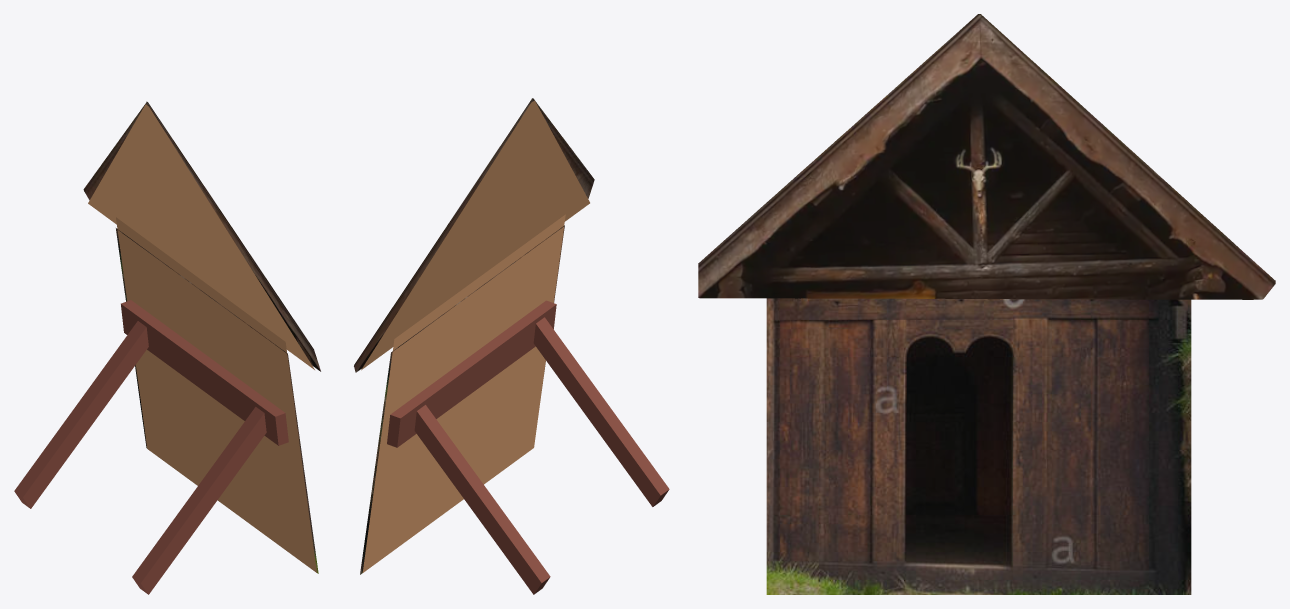
Rendered from house_01.fbx.
The picture shows the model from 3 angles, left to right: view 1: azimuth 30°, elevation 25°; view 2: azimuth 150°, elevation 25°; view 3: azimuth 270°, elevation 25°; orthographic projection. The views are drawn at different scales.
Visible parts, largest first — view 1: Plane.001, Plane.002, Cube.002, Cube, Cube.001, roof, building; view 2: Plane.001, Plane.002, Cube.002, Cube, Cube.001, roof, building; view 3: building, roof.
Boxes of the visible parts, x1,y1,x2,y2 form: Plane.001: (116,217,316,572); Plane.002: (88,104,314,369); Cube.002: (121,300,288,445); Cube: (14,321,148,508); Cube.001: (132,407,266,594); roof: (83,101,320,371); building: (116,228,318,573); Plane.001: (362,214,565,572); Plane.002: (361,100,589,370); Cube.002: (387,300,556,447); Cube: (414,405,550,594); Cube.001: (533,317,669,506); roof: (354,98,594,372); building: (360,225,564,574); building: (766,298,1191,594); roof: (698,14,1275,299).
Size of the model in its own units: 293 by 774 by 762.
